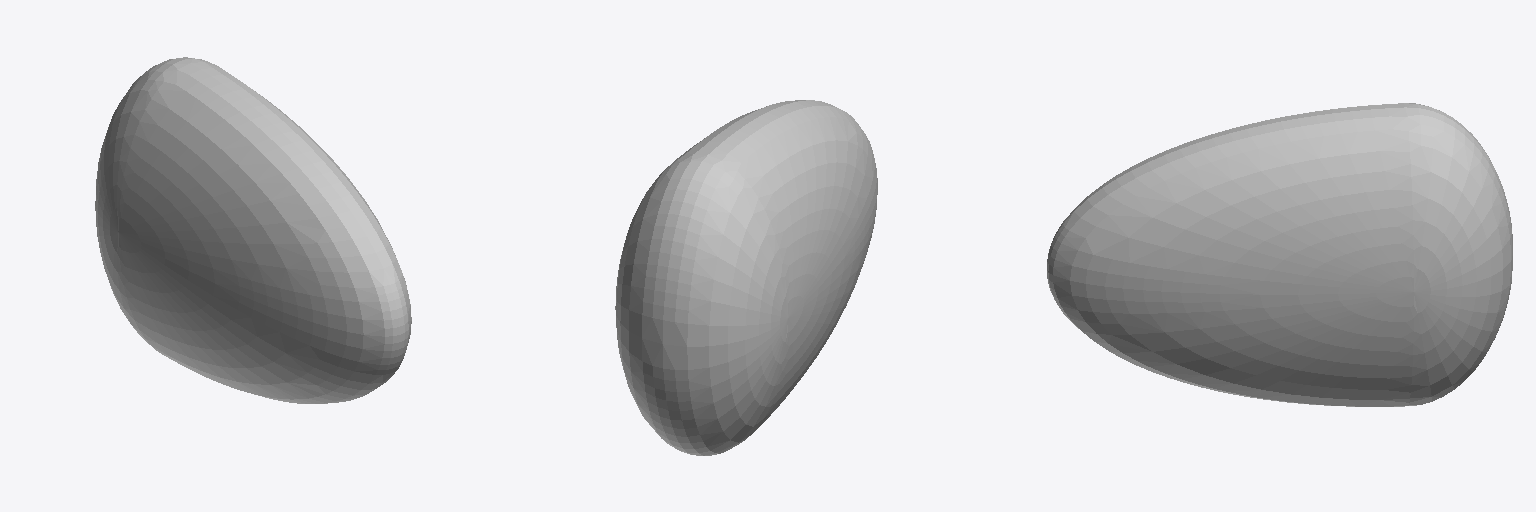
Rendered from BODY_L5.obj.
The picture shows the model from 3 angles: view 1: azimuth 30°, elevation 25°; view 2: azimuth 150°, elevation 25°; view 3: azimuth 270°, elevation 25°; orthographic projection.
Bounding box in the file's own units: 0.1425 × 0.2531 × 0.3635.